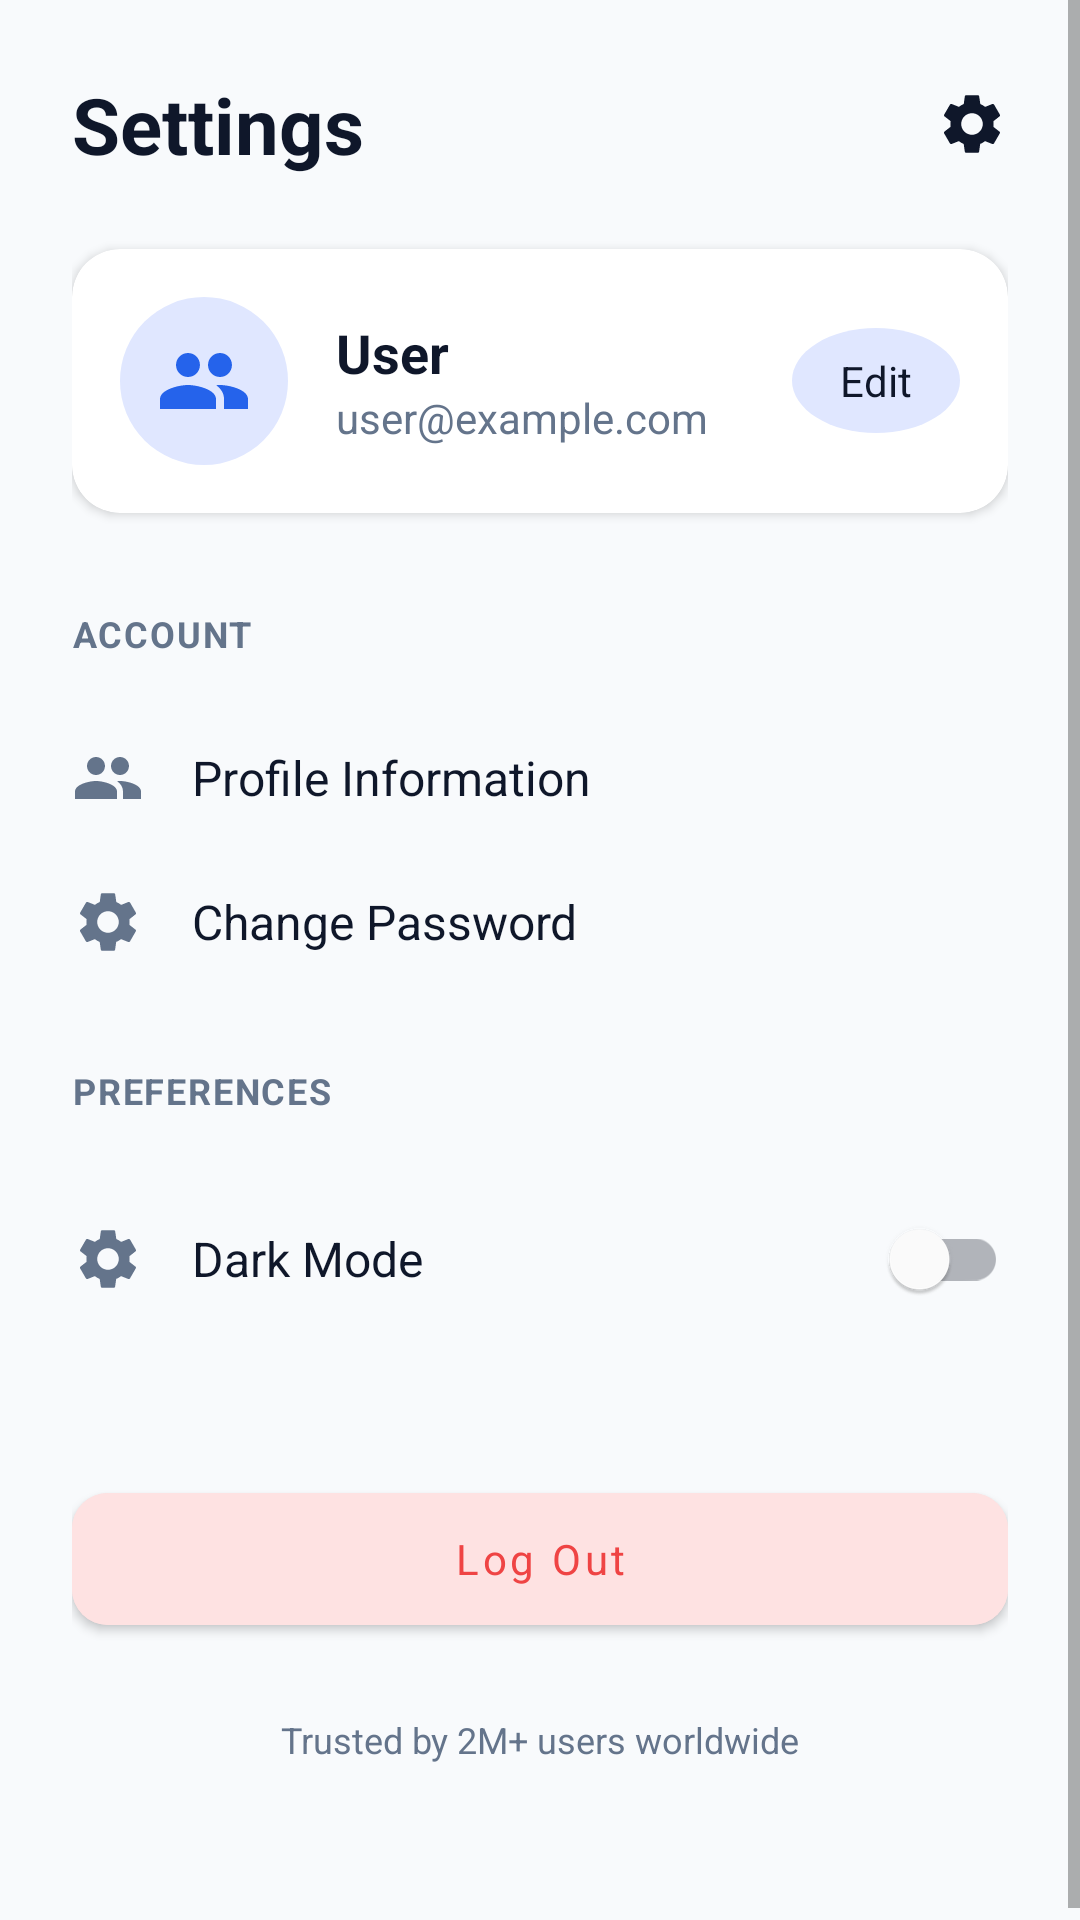

Screen size 1080 x 1920. Icon name, then its box in pixels as (x1, y1, x2, y2):
contacts: (120, 297, 288, 465), (75, 757, 141, 799)
